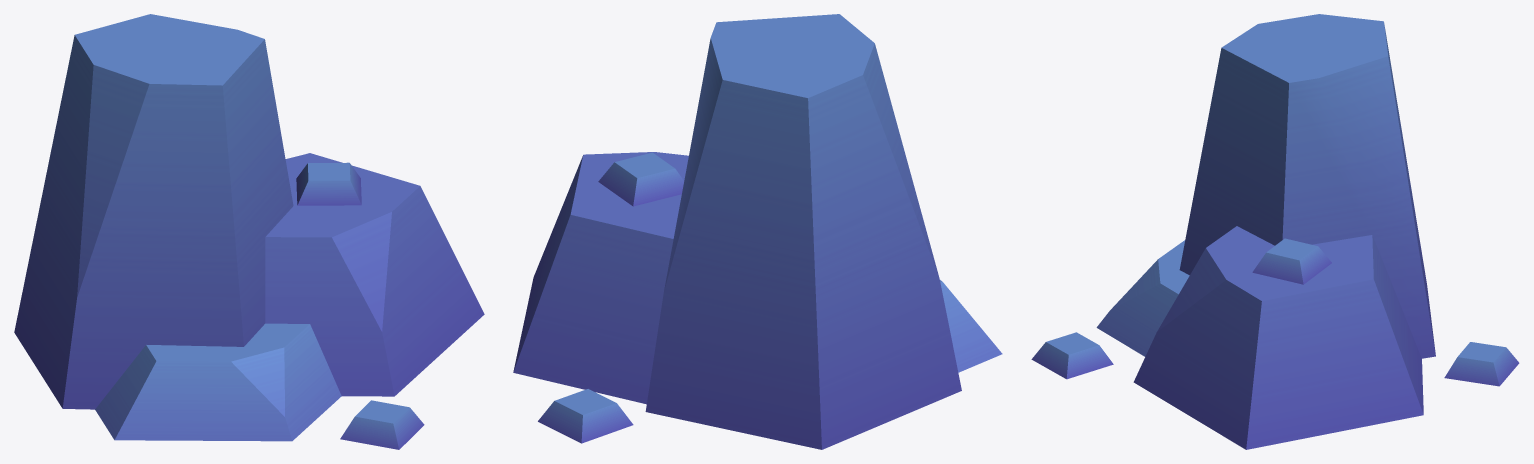
File: pedra 1 azul.glb
3 views of the same model, side by side, from view 1: azimuth 30°, elevation 25°; view 2: azimuth 150°, elevation 25°; view 3: azimuth 270°, elevation 25° (orthographic). The views are drawn at different scales.
Parts seen in each view (by area): view 1: rock-a; view 2: rock-a; view 3: rock-a.
Boxes of the visible parts, <box> form: rock-a: <box>14,14,484,449</box>; rock-a: <box>513,14,1002,449</box>; rock-a: <box>1031,14,1519,449</box>.
Size of the model in its own units: 0.5552 by 0.3927 by 0.6216.
Materials: 1 (1 with a texture image).
